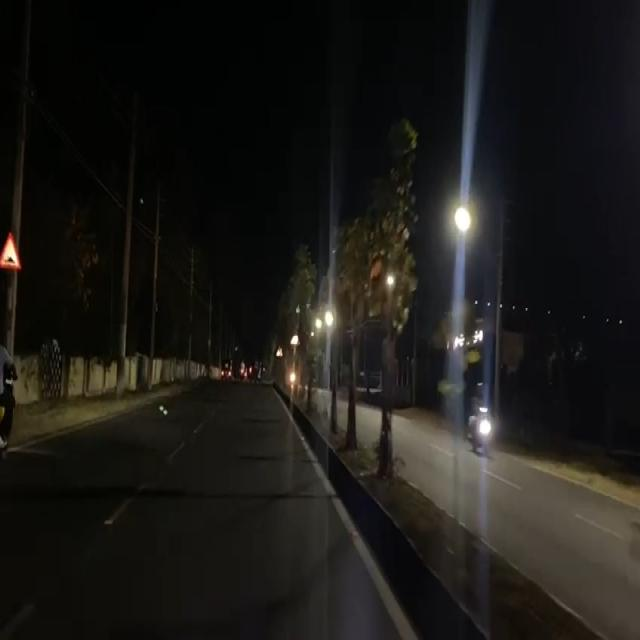bien_cam: (1, 228, 23, 280)
